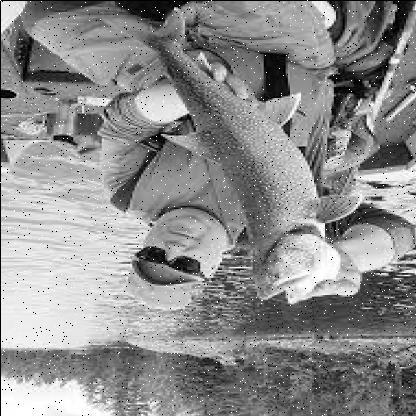fish: (94, 6, 358, 308)
